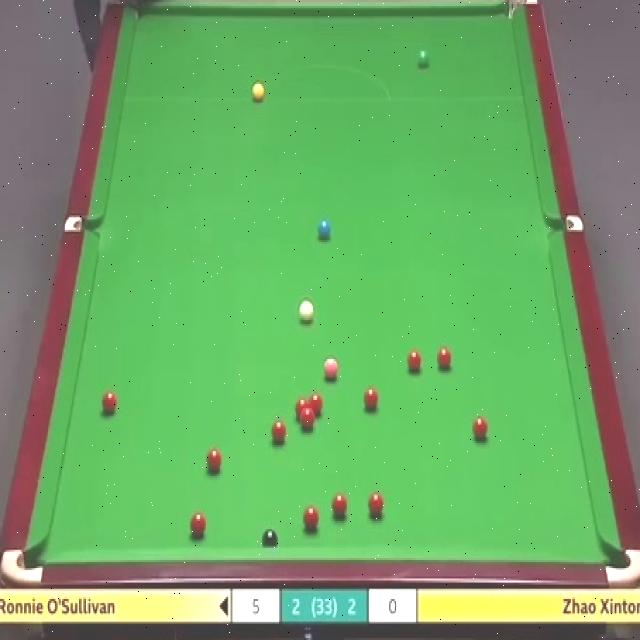black-ball: (262, 529, 278, 548)
blue-ball: (316, 216, 331, 242)
green-ball: (414, 50, 430, 69)
pink-ball: (323, 353, 339, 381)
red-ball: (102, 390, 120, 418), (406, 348, 423, 377), (205, 447, 222, 475), (471, 418, 489, 444), (190, 511, 207, 538), (368, 491, 384, 518), (332, 493, 348, 519), (304, 506, 319, 531), (437, 348, 452, 373), (363, 387, 378, 412), (309, 393, 323, 419), (271, 420, 286, 444), (301, 410, 314, 431), (296, 398, 308, 418)
white-ball: (298, 299, 315, 324)
yellow-ball: (251, 81, 264, 101)
